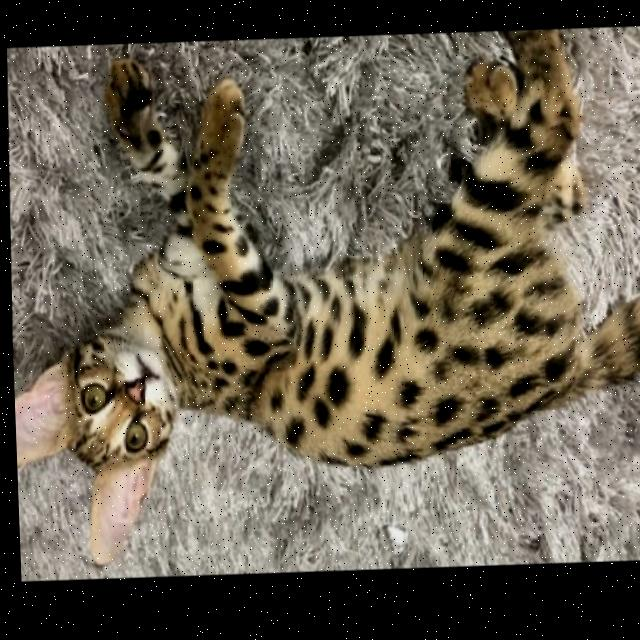Savannah: (1, 24, 640, 583)
